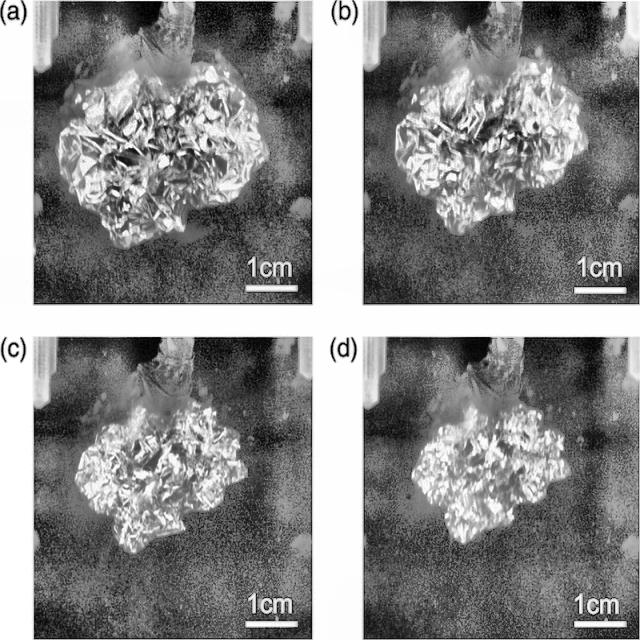Foil: (52, 41, 282, 278), (383, 38, 616, 256), (65, 365, 263, 577), (398, 373, 580, 561)
